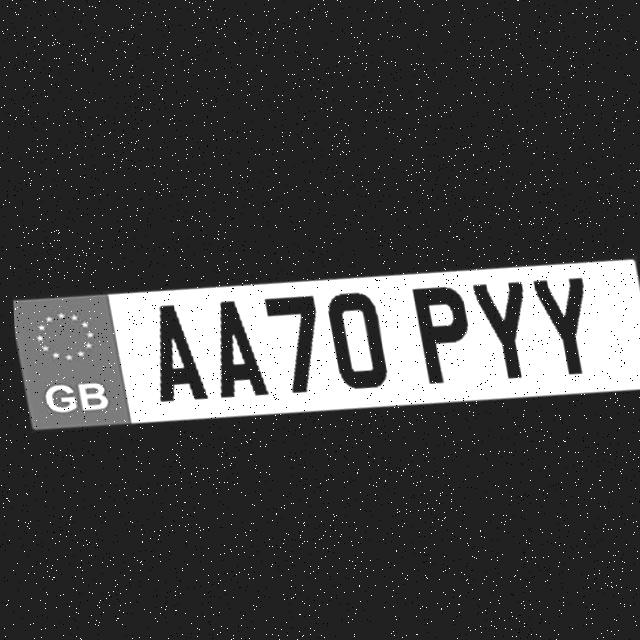license-plates: (13, 257, 640, 429)
